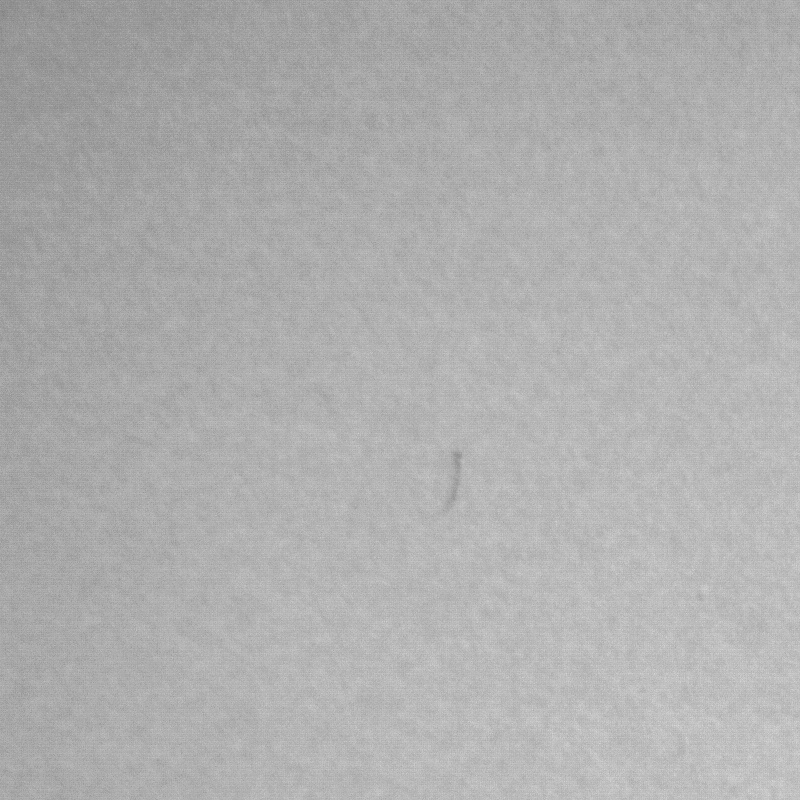defect: (428, 452, 460, 521)
